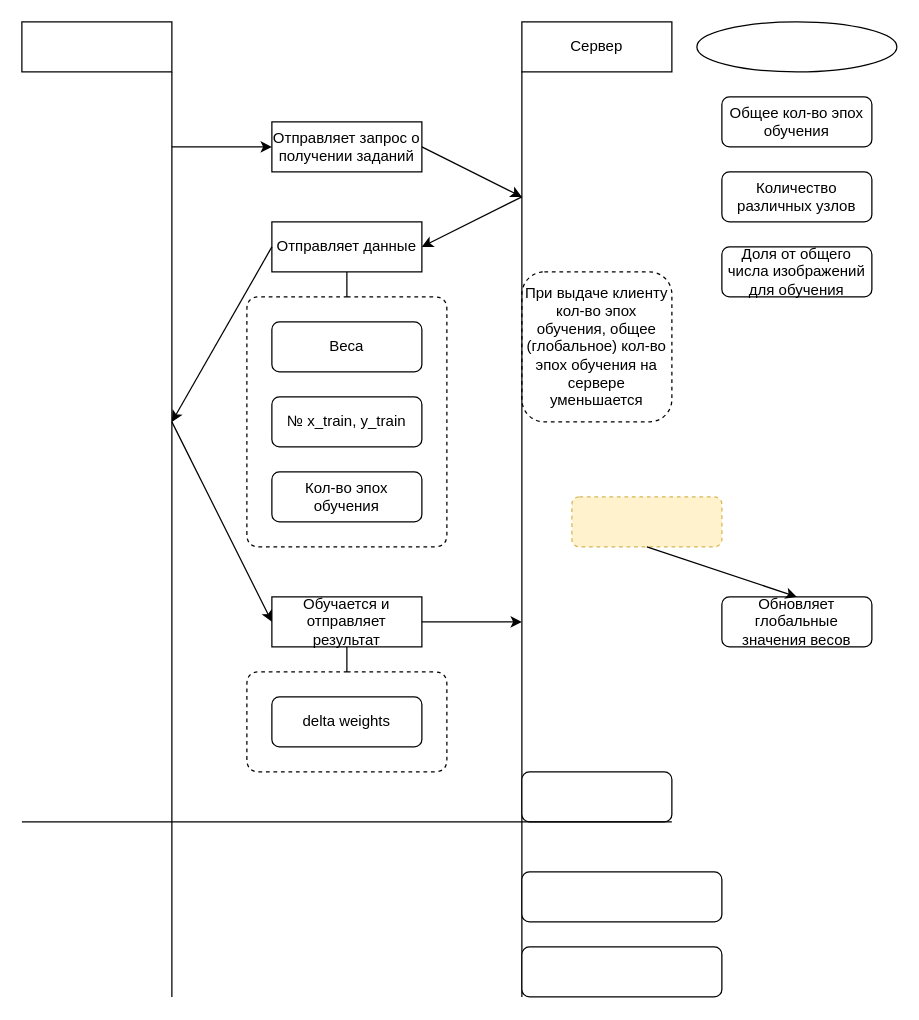
This 919x1020 diagram has some shape labels left out. Here are the shapes that lost their labels. From the top down, the centre of each, then its label:
pixel 96 46: Клиент
pixel 796 46: Глобальные параметры (хранятся на сервере)
pixel 646 521: Как?
pixel 596 796: Обучение закончилось
pixel 621 896: Сервер проверяет обученную нейронную сеть на тестовых данных
pixel 621 971: Полученные метрики и глобальные значения сохраняются в файл
